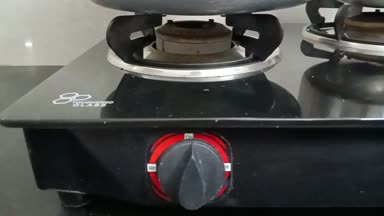noflame_gason: (98, 9, 288, 211)
